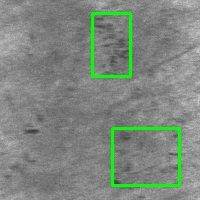rolled-in_scale: (112, 128, 179, 185), (92, 13, 130, 76)
